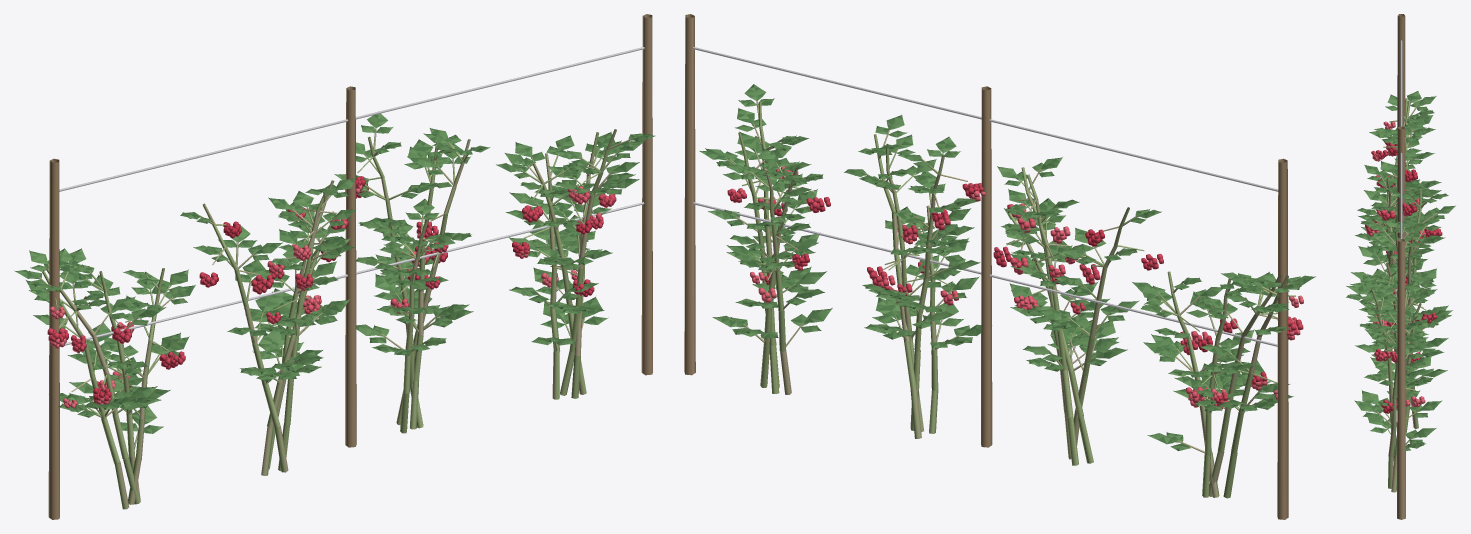
File: framboise_normale_mur.glb
The picture shows the model from 3 angles, left to right: view 1: azimuth 30°, elevation 25°; view 2: azimuth 150°, elevation 25°; view 3: azimuth 270°, elevation 25°; orthographic projection. The views are drawn at different scales.
Parts seen in each view (by area): view 1: Framboise_Feuilles, Framboise_Cannes, Framboise_Piquets, Framboise_Fruits, Framboise_Fil; view 2: Framboise_Feuilles, Framboise_Cannes, Framboise_Piquets, Framboise_Fruits, Framboise_Fil; view 3: Framboise_Feuilles, Framboise_Piquets, Framboise_Cannes, Framboise_Fruits, Framboise_Fil.
Boxes of the visible parts, x1,y1,x2,y2 form: Framboise_Feuilles: (14,113,655,433); Framboise_Cannes: (38,128,632,509); Framboise_Piquets: (48,14,652,519); Framboise_Fruits: (47,176,616,408); Framboise_Fil: (59,47,644,345); Framboise_Feuilles: (699,84,1315,450); Framboise_Cannes: (724,101,1295,498); Framboise_Piquets: (684,14,1288,519); Framboise_Fruits: (727,166,1303,409); Framboise_Fil: (693,47,1278,346); Framboise_Feuilles: (1346,91,1455,450); Framboise_Piquets: (1397,14,1405,519); Framboise_Cannes: (1361,98,1436,492); Framboise_Fruits: (1365,121,1442,413); Framboise_Fil: (1400,40,1402,238).
Bounding box in the file's own units: 2.12 × 1.15 × 0.4174.
